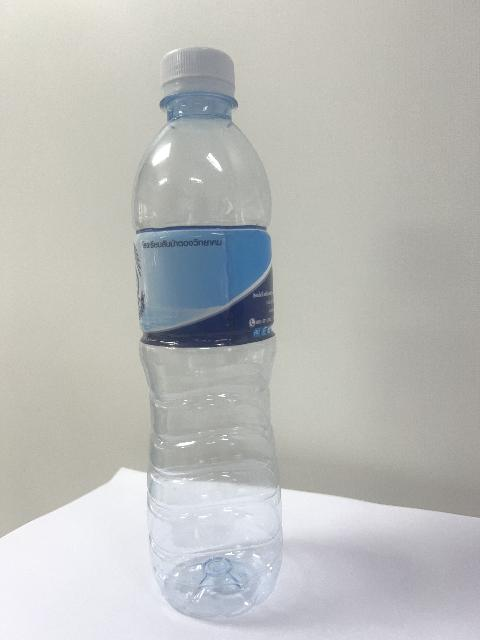bottle: (133, 48, 282, 617)
